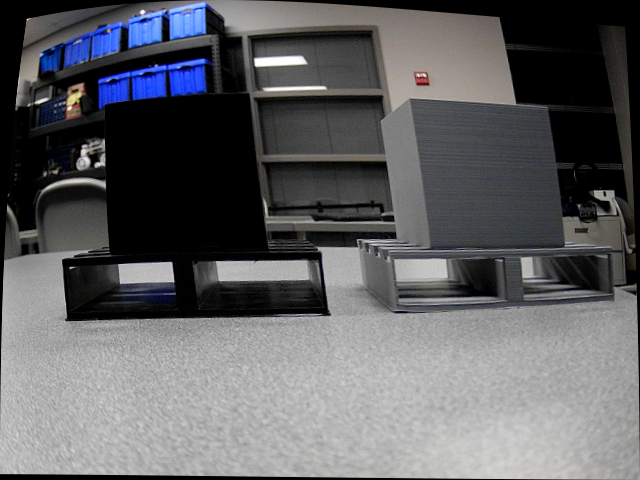black pallet: (59, 91, 334, 326)
grey pallet: (356, 94, 621, 319)
